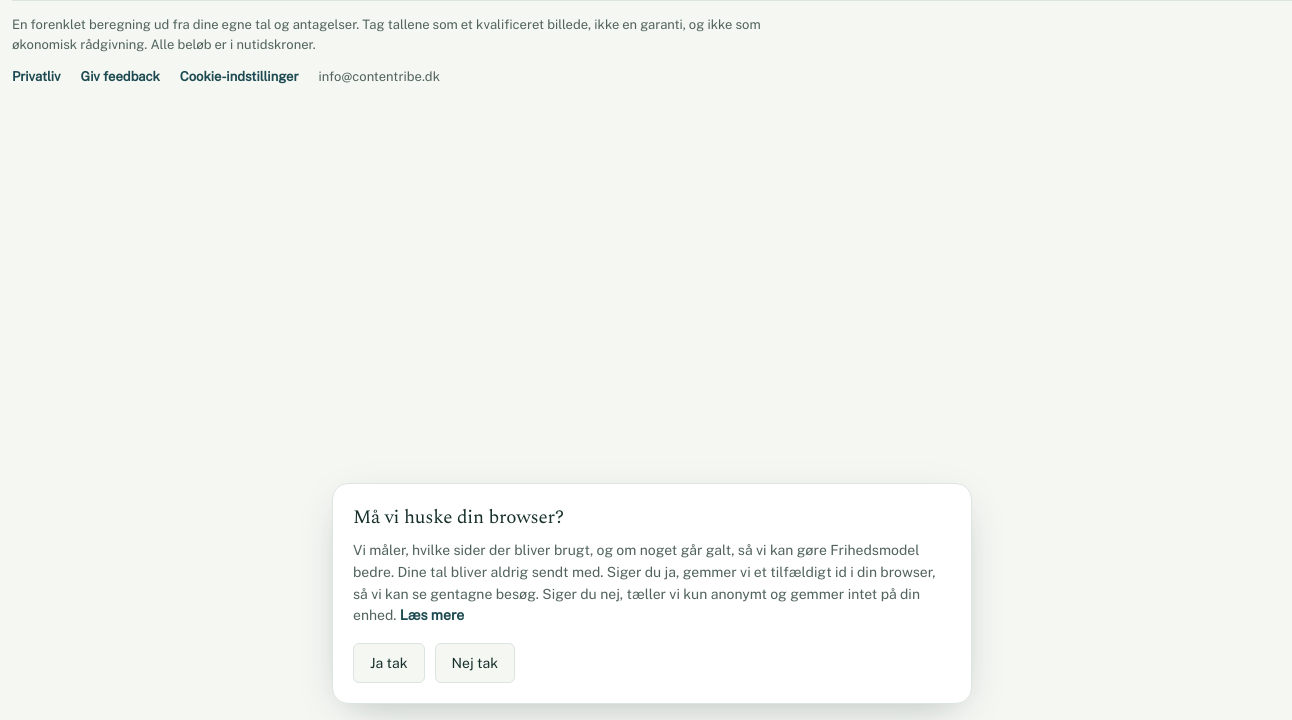
Test: consent banner and footer › asks with two equal answers, remembers the choice and hides
Expected: the element "Må vi huske din browser?" is shown, [332, 483, 972, 704]
Click the button "Nej tak" at (475, 663), box [435, 643, 515, 683]
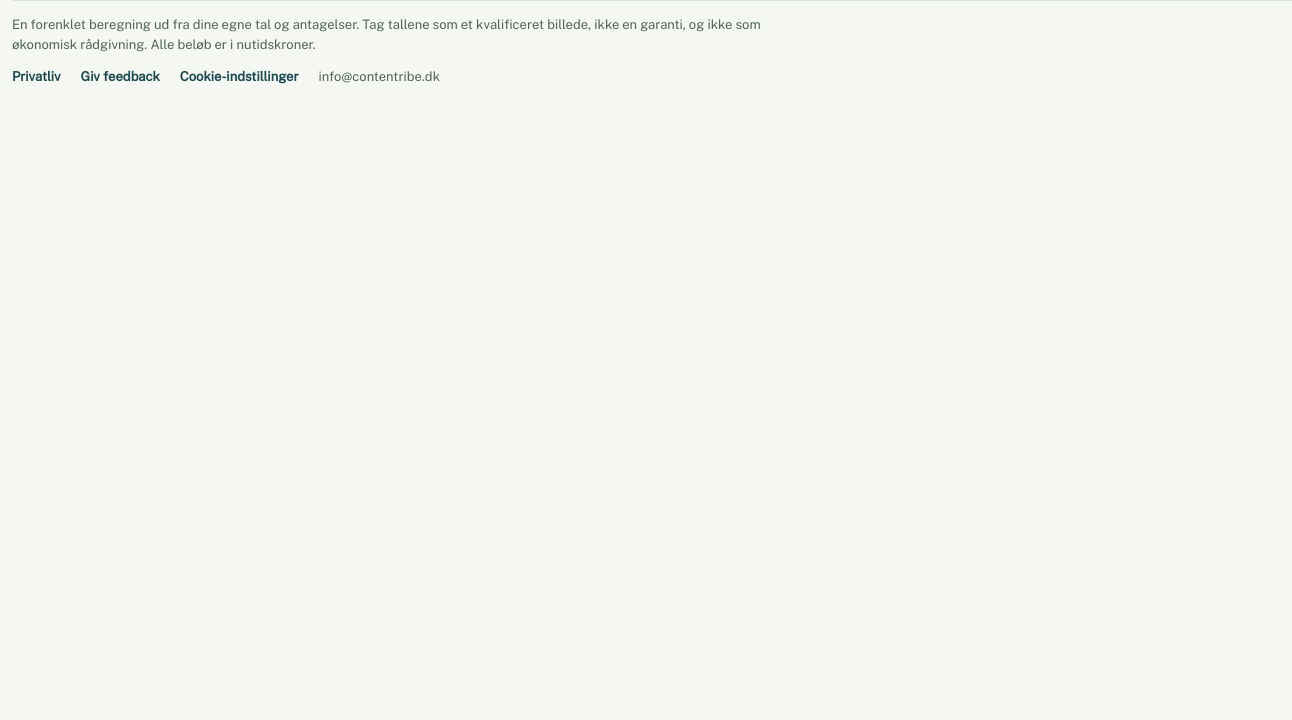
Result: the heading "Må vi huske din browser?" is gone
